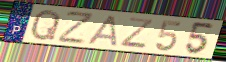5: (183, 20, 217, 56), (154, 20, 184, 53)
A: (86, 14, 118, 48)
Q: (29, 8, 62, 42)
Z: (57, 12, 96, 46), (119, 17, 155, 51)
